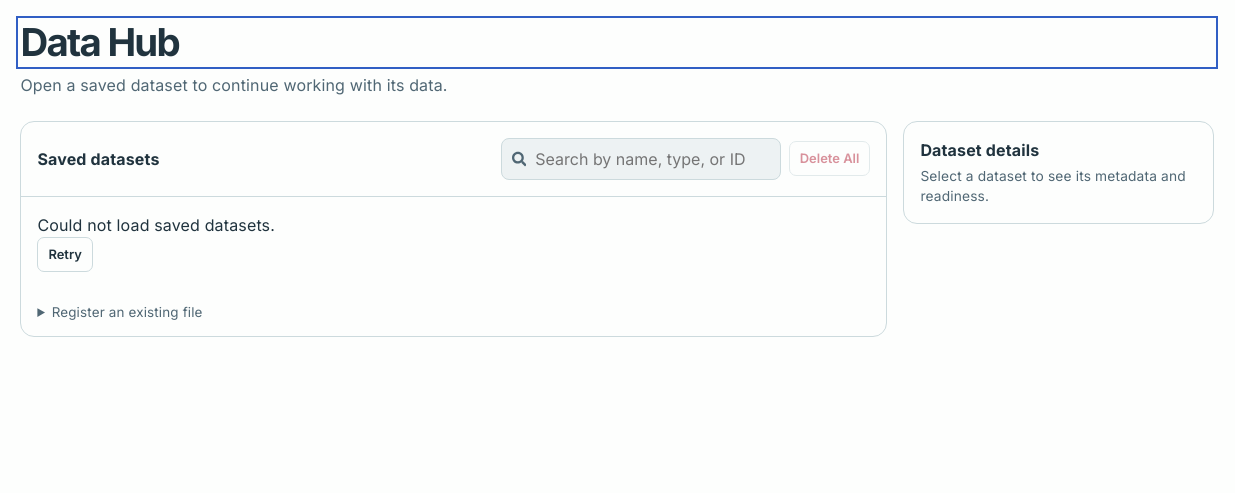
Test: retries a failed list request and displays an empty catalog
The image size is (1235, 493).
Expected: the message shows "Could not load saved datasets.", [37,214,275,234]
Click the button "Retry" at (65, 254), box [37,236,93,272]
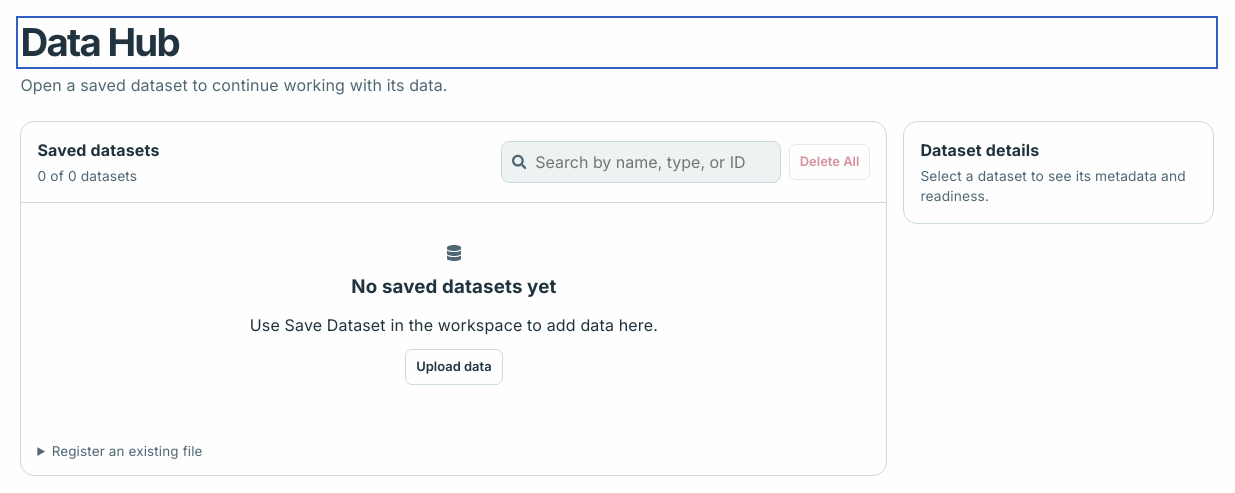
Expected: the heading "No saved datasets yet" is shown, [351,273,556,301]
